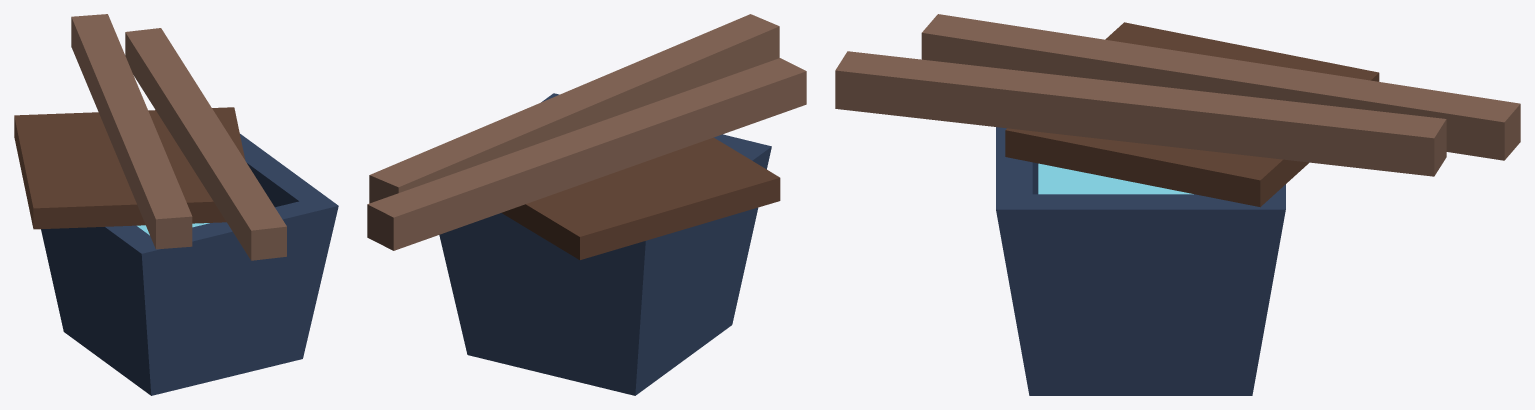
Rendered from Blacksmith Tool 01.FBX.
3 renders of one model, left to right at view 1: azimuth 30°, elevation 25°; view 2: azimuth 150°, elevation 25°; view 3: azimuth 270°, elevation 25°, orthographic. The views are drawn at different scales.
Parts seen in each view (by area): view 1: Blacksmith Tool 01; view 2: Blacksmith Tool 01; view 3: Blacksmith Tool 01.
Part boxes in pixels (box(x1,y1,x2,y2)): Blacksmith Tool 01: box(14, 14, 338, 395); Blacksmith Tool 01: box(367, 14, 806, 395); Blacksmith Tool 01: box(835, 14, 1520, 395).
Bounding box in the file's own units: 84.1 × 66.37 × 154.
